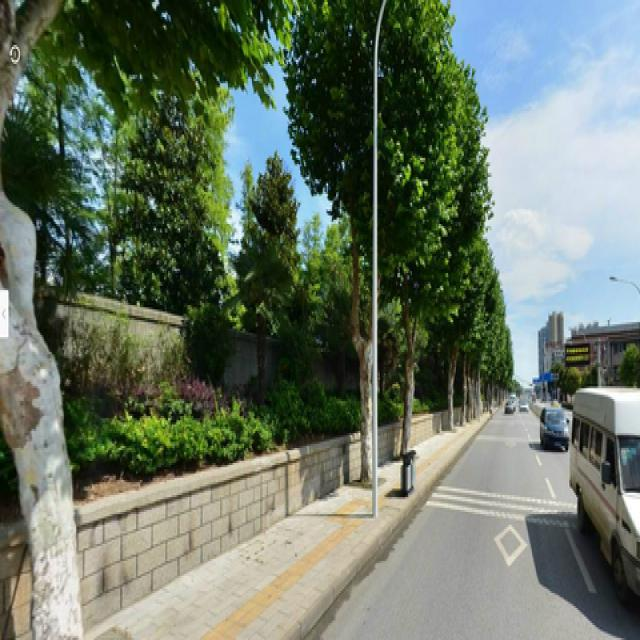meta: (312, 12, 436, 490)
